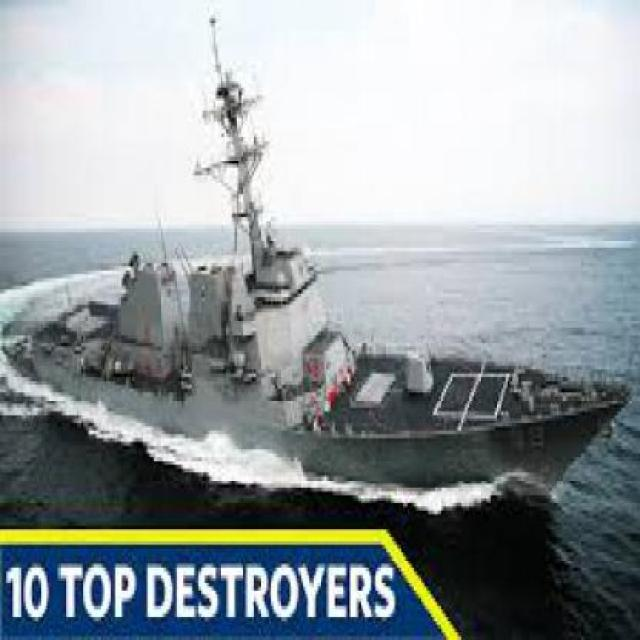warship2: (16, 16, 620, 516)
